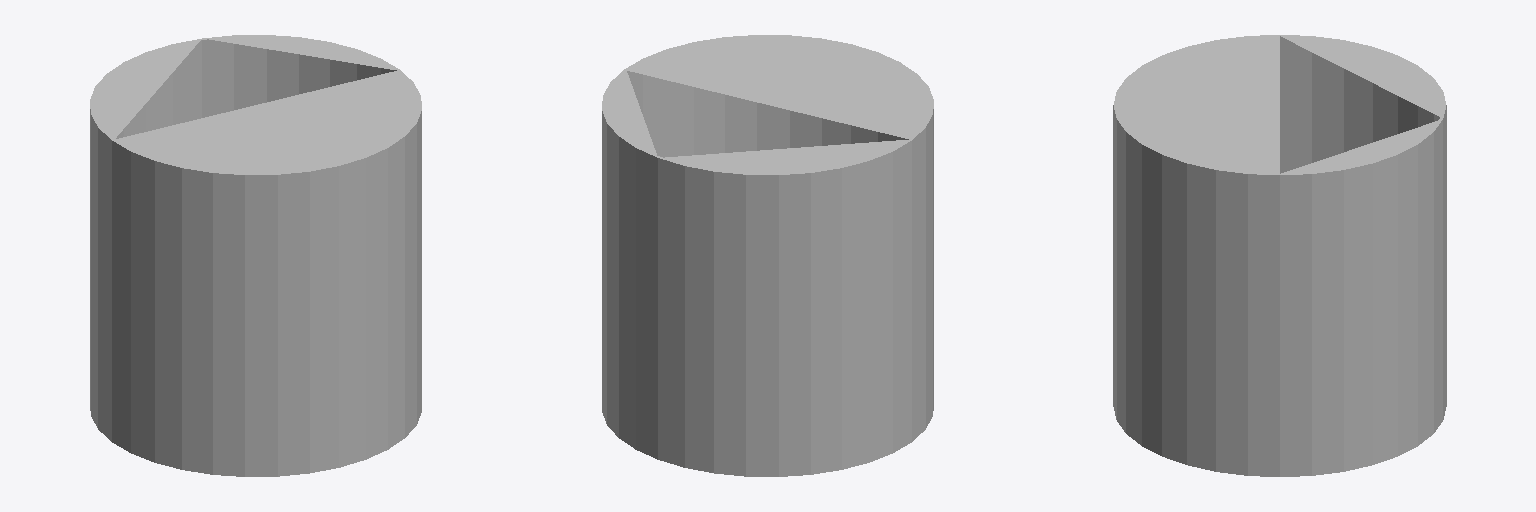
Rendered from cylinderHole.obj.
3 views of the same model, side by side, from view 1: azimuth 30°, elevation 25°; view 2: azimuth 150°, elevation 25°; view 3: azimuth 270°, elevation 25° (orthographic).
Parts seen in each view (by area): view 1: Cylinder.001_Cylinder.003; view 2: Cylinder.001_Cylinder.003; view 3: Cylinder.001_Cylinder.003.
Boxes of the visible parts, x1=… form: Cylinder.001_Cylinder.003: x1=90, y1=35, x2=421, y2=476; Cylinder.001_Cylinder.003: x1=602, y1=35, x2=933, y2=476; Cylinder.001_Cylinder.003: x1=1113, y1=35, x2=1446, y2=476.
Bounding box in the file's own units: 2.04 × 2.04 × 2.04.